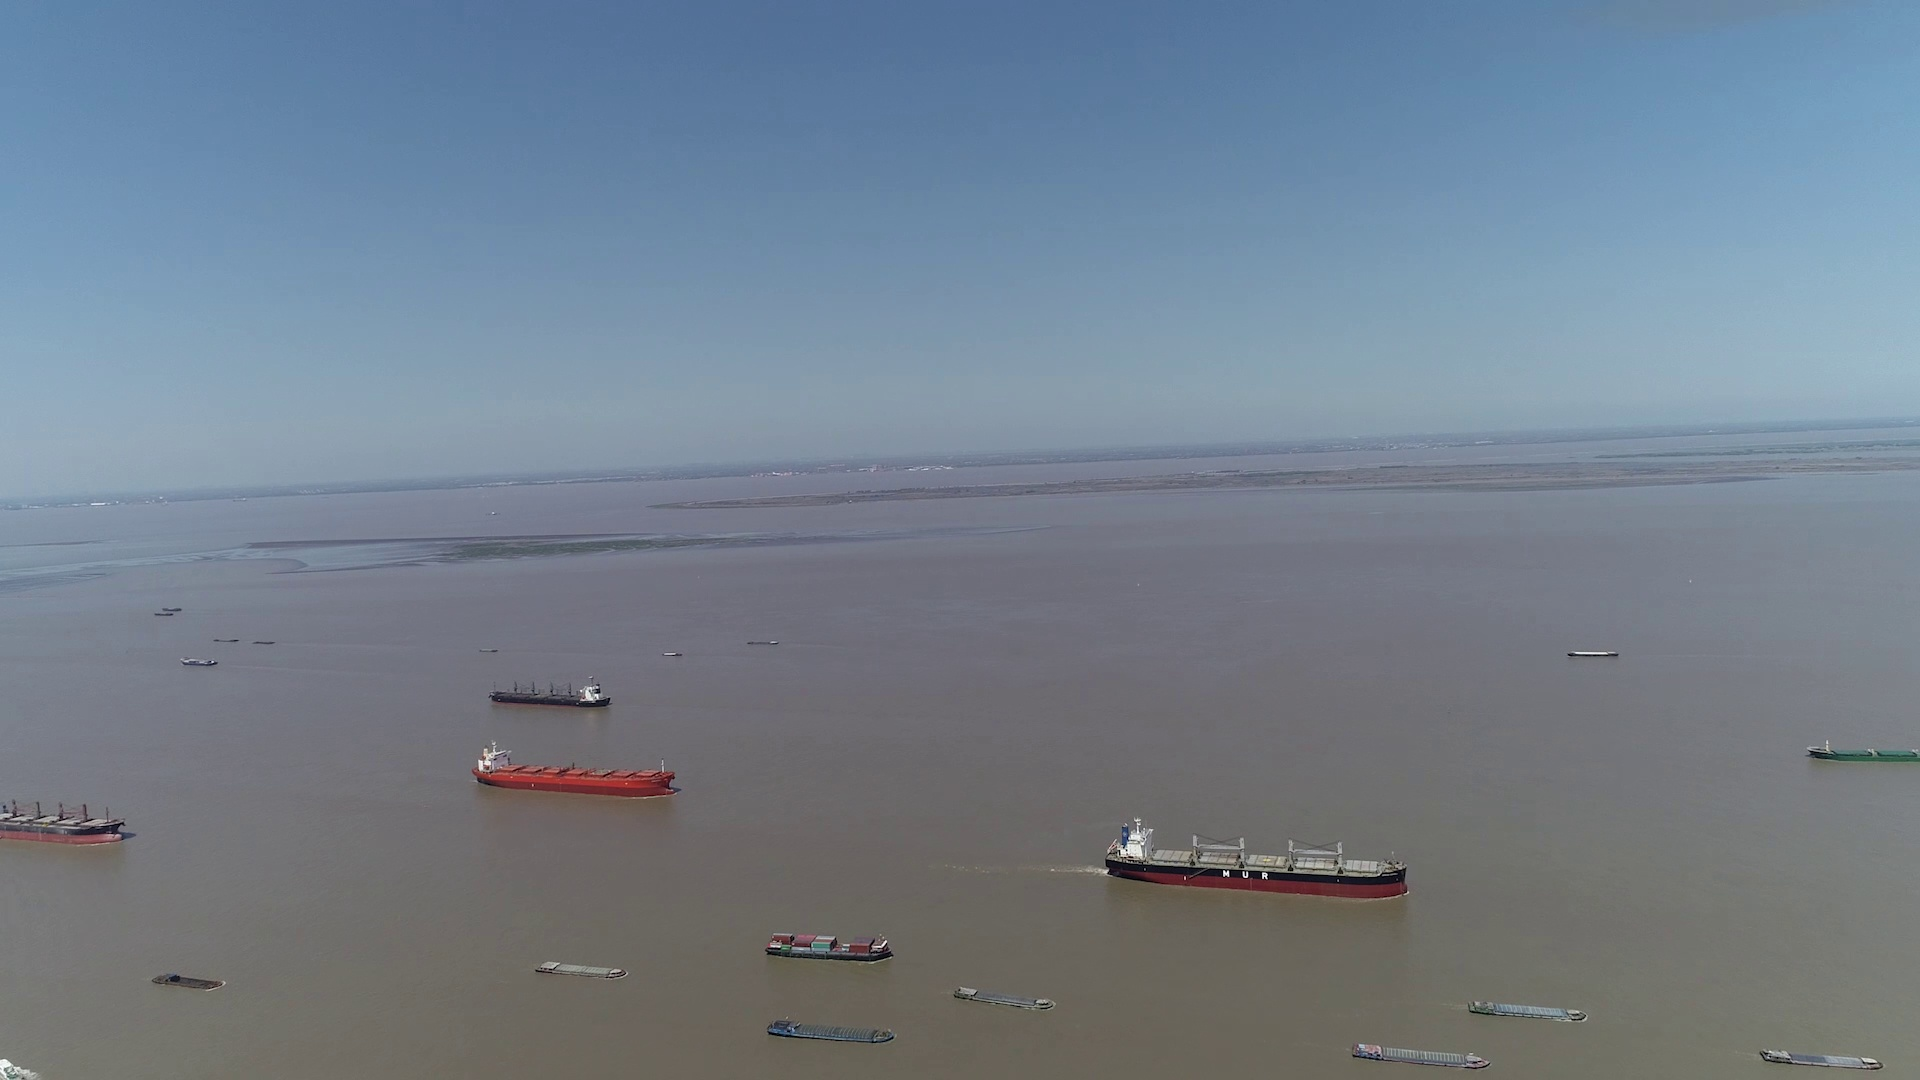ship: (1104, 818, 1411, 899), (471, 738, 676, 795), (0, 786, 125, 847), (1352, 1042, 1493, 1072), (764, 931, 893, 963), (488, 679, 611, 709), (767, 1021, 895, 1044), (953, 984, 1059, 1010), (1760, 1047, 1880, 1069), (1469, 998, 1588, 1021), (1805, 741, 1917, 764), (533, 959, 628, 978), (152, 971, 225, 989), (1567, 650, 1617, 658), (181, 657, 216, 667)
